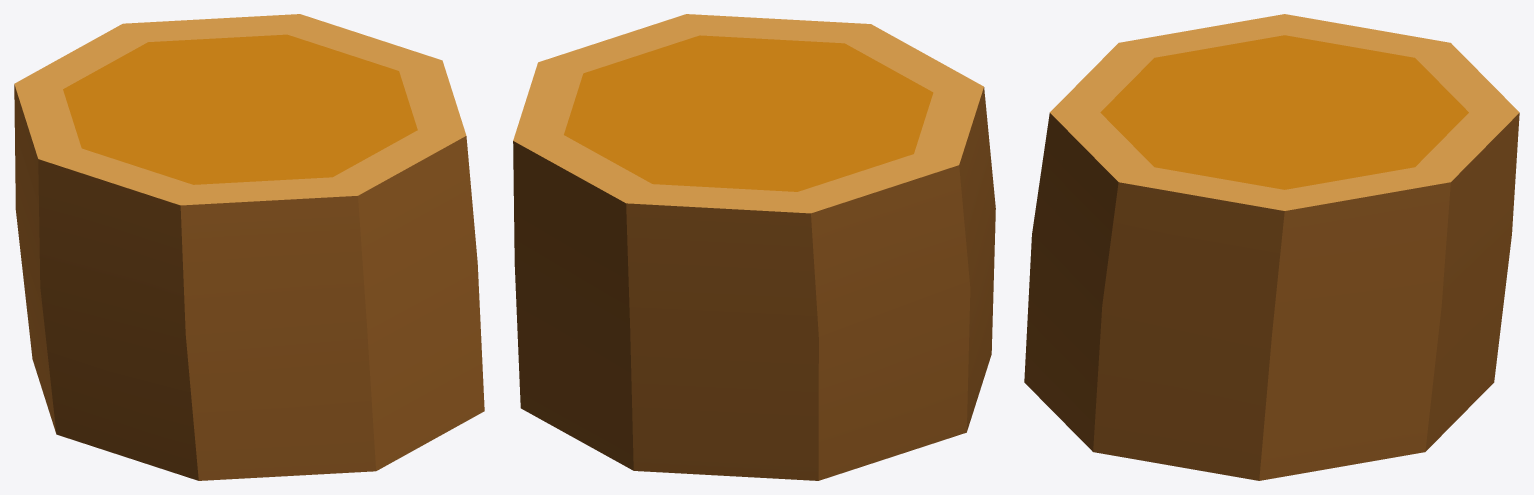
Rendered from SM_WoodenBarkChari_01.fbx.
3 views of the same model, side by side, from view 1: azimuth 30°, elevation 25°; view 2: azimuth 150°, elevation 25°; view 3: azimuth 270°, elevation 25° (orthographic). The views are drawn at different scales.
Parts seen in each view (by area): view 1: Bark_01; view 2: Bark_01; view 3: Bark_01.
Boxes of the visible parts, <box> form: Bark_01: <box>14,14,484,480</box>; Bark_01: <box>513,14,995,480</box>; Bark_01: <box>1024,14,1519,480</box>.
Bounding box in the file's own units: 81 × 50 × 84.
